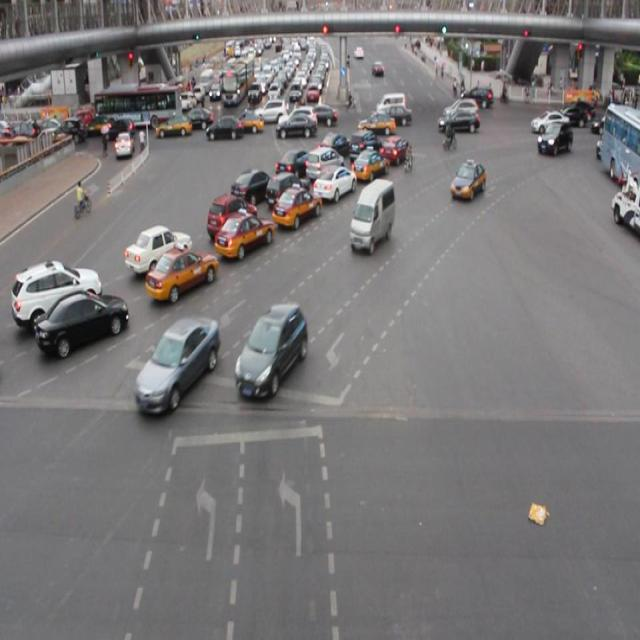car: (135, 316, 218, 411), (233, 304, 307, 395), (34, 289, 128, 351), (13, 260, 102, 322), (145, 248, 216, 301), (126, 225, 192, 274), (214, 208, 273, 258), (272, 184, 321, 230), (206, 192, 257, 236), (313, 162, 355, 203), (266, 170, 309, 209), (231, 168, 274, 205), (449, 158, 484, 202), (351, 145, 388, 183), (536, 119, 571, 158), (276, 150, 313, 184), (379, 132, 412, 167), (347, 130, 379, 166), (316, 131, 350, 161)
truck: (350, 178, 394, 254), (305, 146, 343, 183)
